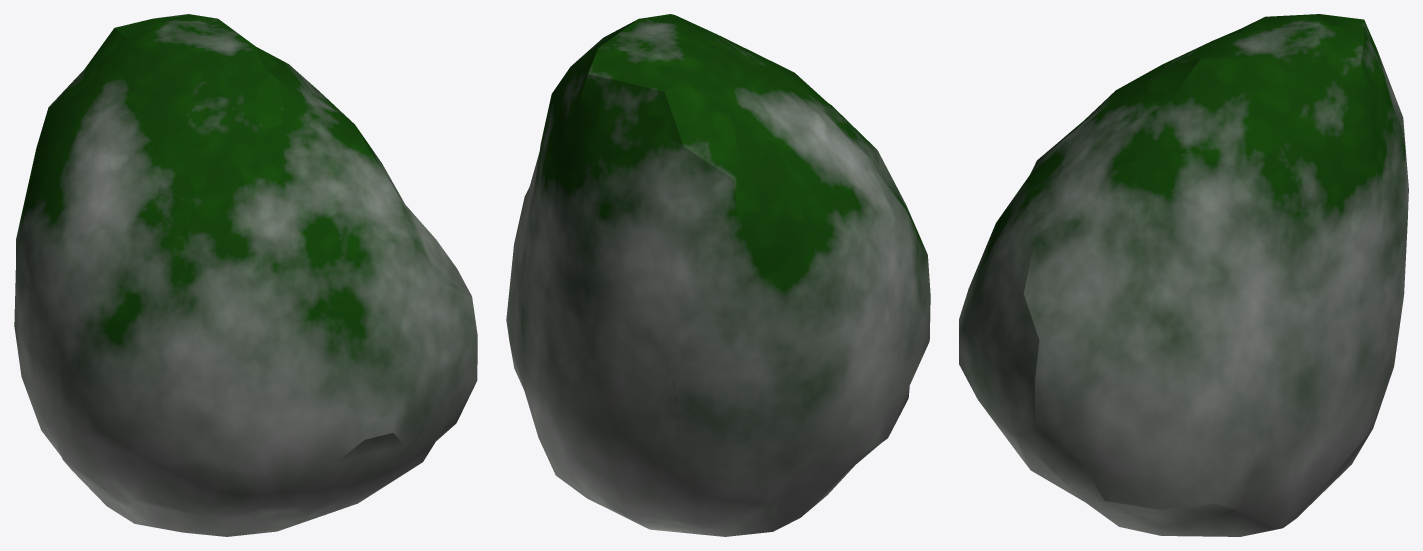
Rendered from rock_5.fbx.
3 views of the same model, side by side, from view 1: azimuth 30°, elevation 25°; view 2: azimuth 150°, elevation 25°; view 3: azimuth 270°, elevation 25° (orthographic). The views are drawn at different scales.
Visible parts, largest first — view 1: rock.006; view 2: rock.006; view 3: rock.006.
Boxes of the visible parts, x1=… form: rock.006: x1=14, y1=14, x2=477, y2=536; rock.006: x1=506, y1=14, x2=930, y2=536; rock.006: x1=959, y1=14, x2=1408, y2=536.
Size of the model in its own units: 73.53 by 86.65 by 72.95.
